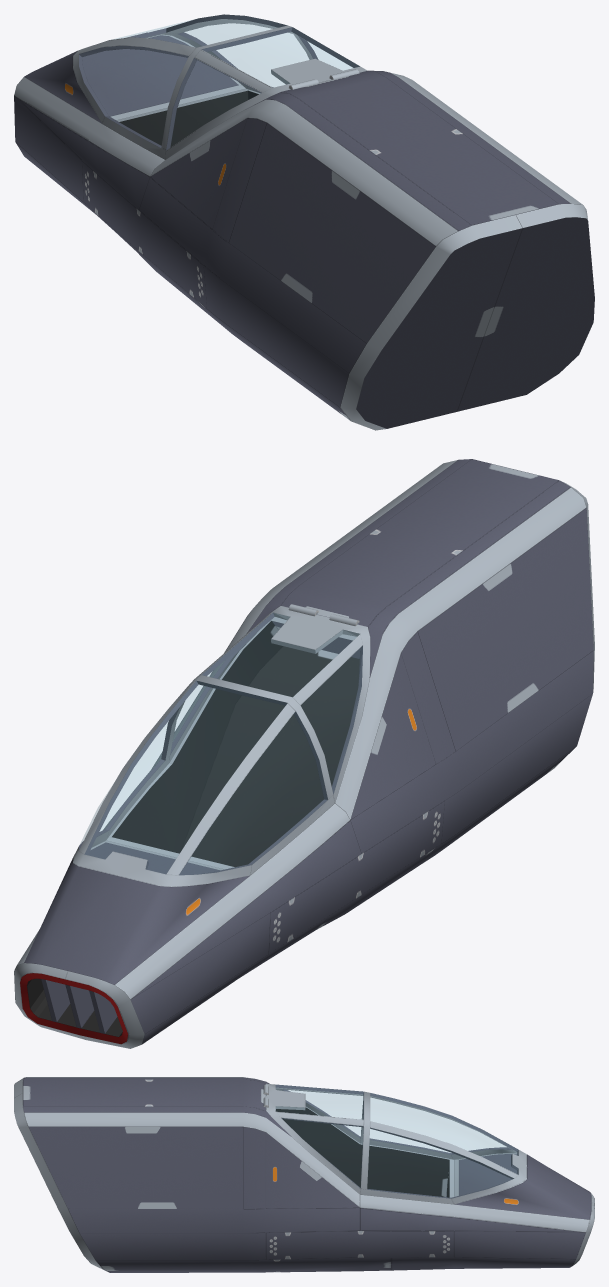
The model's file is Cabin_01.FBX.
3 views of the same model, one above another, from view 1: azimuth 30°, elevation 25°; view 2: azimuth 150°, elevation 25°; view 3: azimuth 270°, elevation 25° (orthographic). The views are drawn at different scales.
Parts seen in each view (by area): view 1: Cabin_01, Glass_01; view 2: Cabin_01, Glass_01; view 3: Cabin_01, Glass_01.
Boxes of the visible parts, <box> form: Cabin_01: <box>14,34,594,430</box>; Glass_01: <box>73,14,367,159</box>; Cabin_01: <box>14,459,594,1048</box>; Glass_01: <box>73,606,370,886</box>; Cabin_01: <box>14,1077,594,1272</box>; Glass_01: <box>266,1083,526,1204</box>.
Bounding box in the file's own units: 3 × 3.01 × 9.75.
